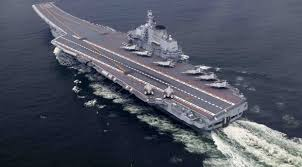tau_muctieu: (34, 5, 246, 133)
